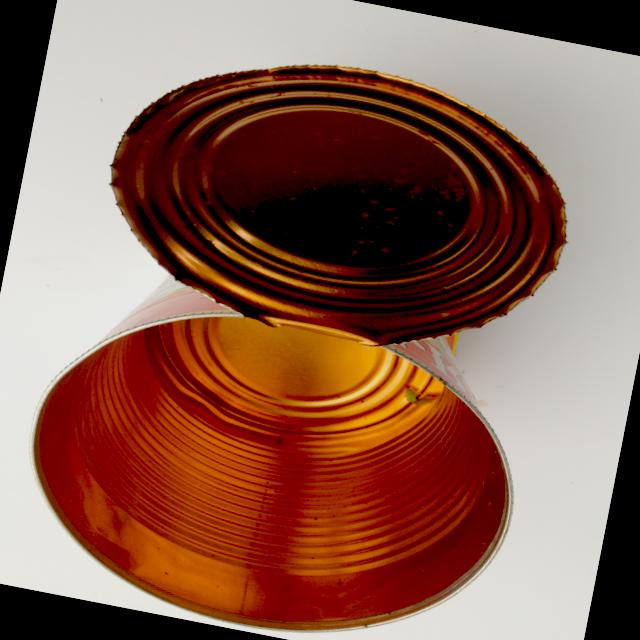Metal: (0, 8, 603, 640)
